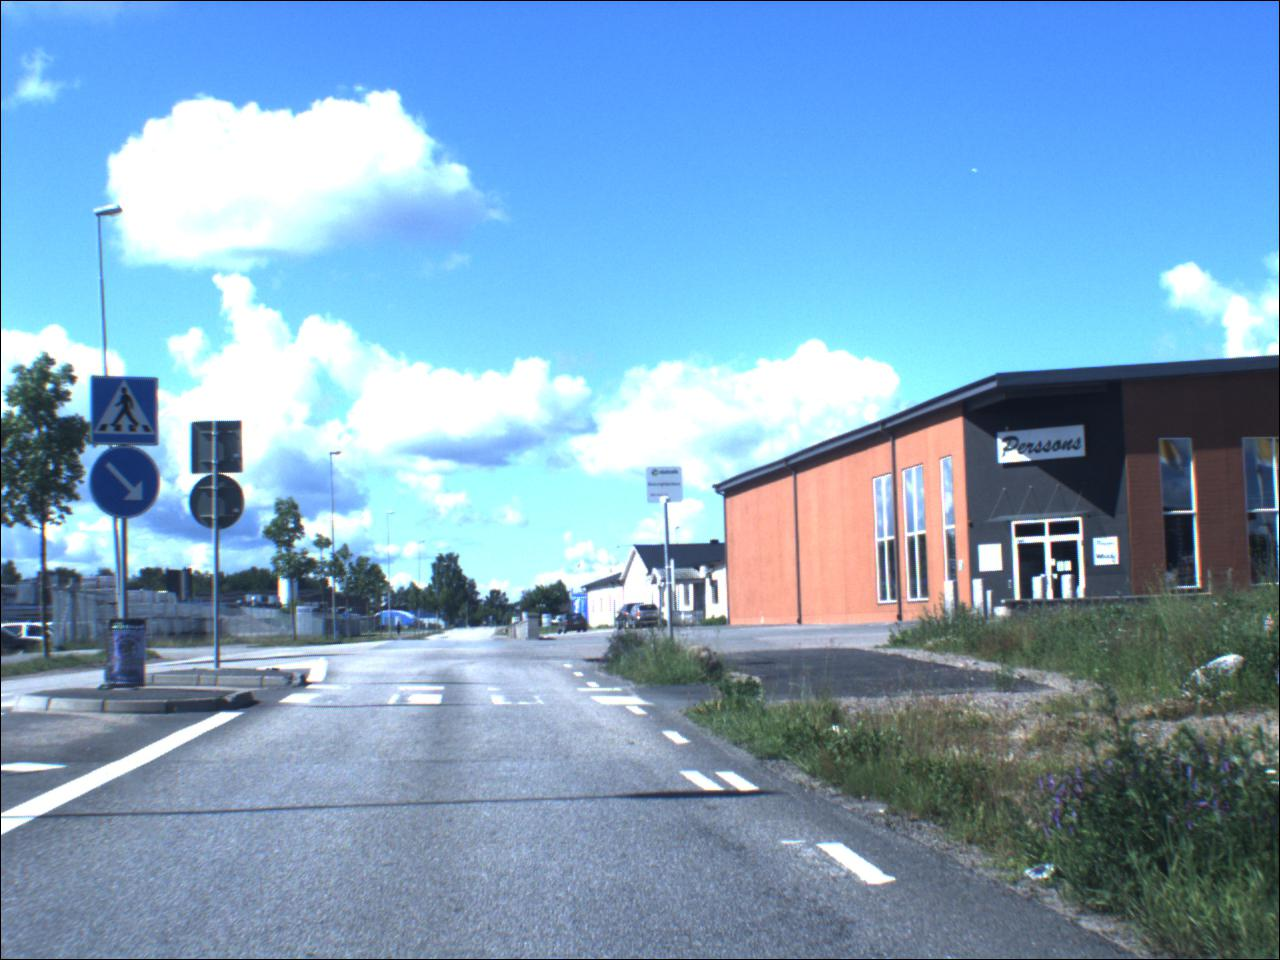PASS_RIGHT_SIDE: (91, 447, 163, 522)
PEDESTRIAN_CROSSING: (93, 377, 161, 447)
